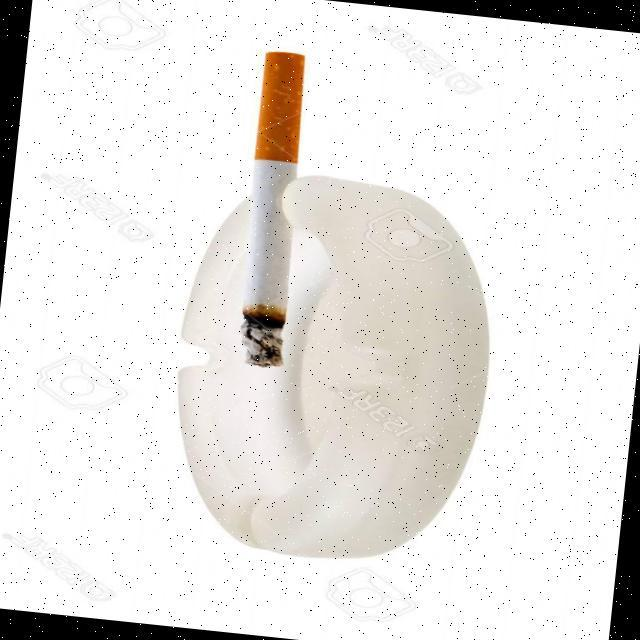cigarette: (220, 45, 325, 378)
